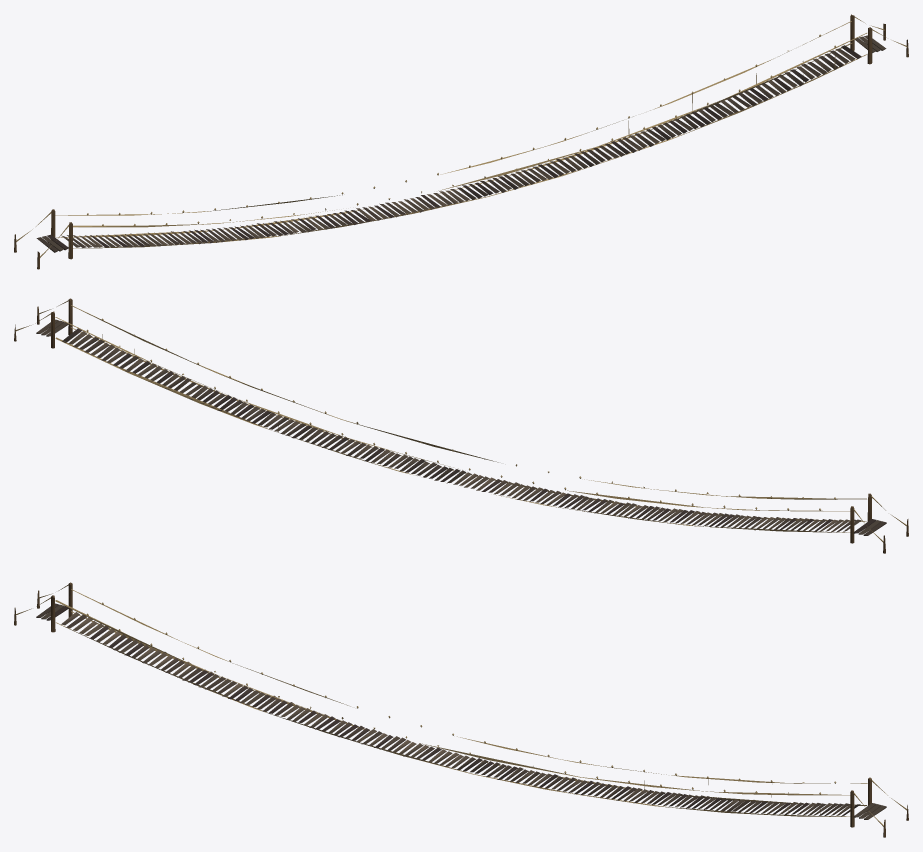
File: wf_rope_bridge-lod1.glb
The picture shows the model from 3 angles, top to bottom: view 1: azimuth 30°, elevation 25°; view 2: azimuth 150°, elevation 25°; view 3: azimuth 330°, elevation 25°; orthographic projection.
Parts seen in each view (by area): view 1: wf_rope_bridge; view 2: wf_rope_bridge; view 3: wf_rope_bridge.
Part boxes in pixels (x1,y1,x2,y2): wf_rope_bridge: [14, 14, 908, 269]; wf_rope_bridge: [14, 298, 908, 553]; wf_rope_bridge: [14, 582, 908, 837].
Bounding box in the file's own units: 54.76 × 4.63 × 2.66.
